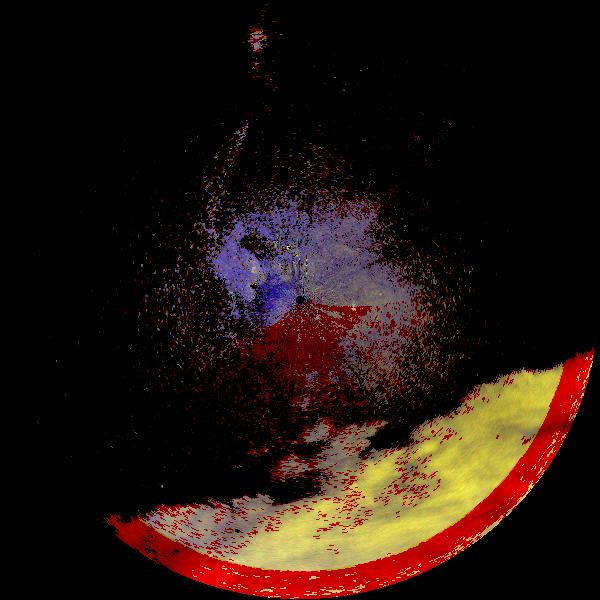roost: (337, 292, 367, 322)
